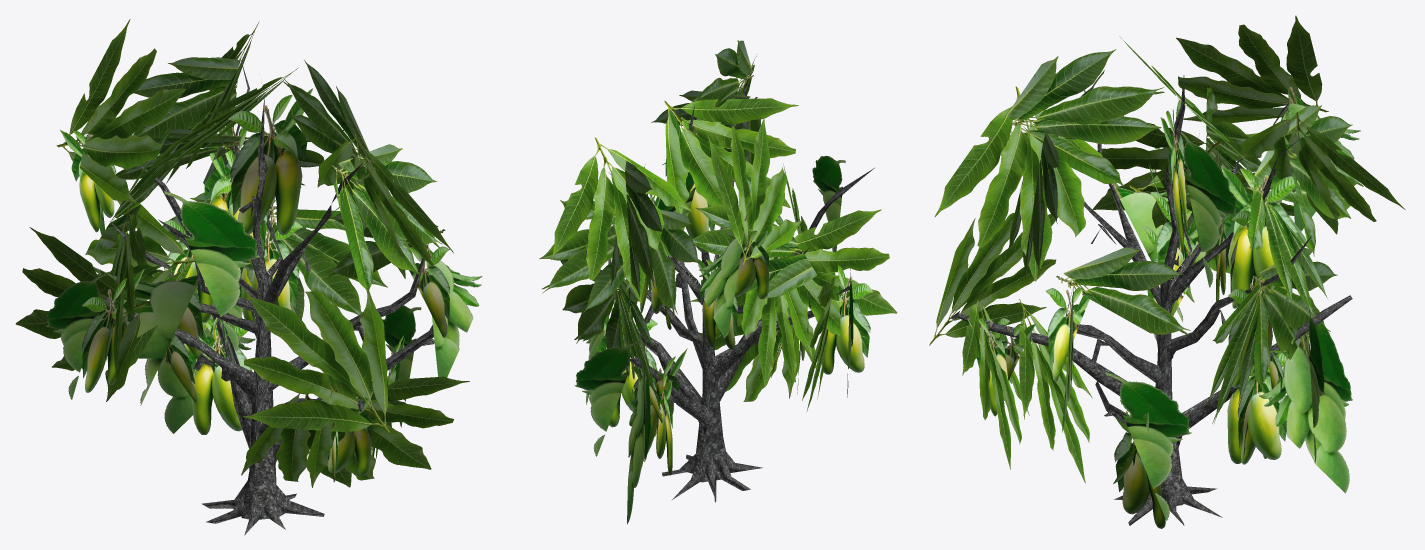
Rendered from realmangotreefar.glb.
3 views of the same model, side by side, from view 1: azimuth 30°, elevation 25°; view 2: azimuth 150°, elevation 25°; view 3: azimuth 270°, elevation 25° (orthographic). The views are drawn at different scales.
Parts seen in each view (by area): view 1: Mang_Tree_01_Mango_Leaf_01_Mat_0, Mang_Tree_01_Mango_Fruit_01_Mat_0, Mang_Tree_01_Mango_Leaf_02_Mat_0, Mang_Tree_01_Mango_Bark_BC02_Mat_0; view 2: Mang_Tree_01_Mango_Leaf_01_Mat_0, Mang_Tree_01_Mango_Fruit_01_Mat_0, Mang_Tree_01_Mango_Leaf_02_Mat_0, Mang_Tree_01_Mango_Bark_BC02_Mat_0; view 3: Mang_Tree_01_Mango_Leaf_01_Mat_0, Mang_Tree_01_Mango_Fruit_01_Mat_0, Mang_Tree_01_Mango_Leaf_02_Mat_0, Mang_Tree_01_Mango_Bark_BC02_Mat_0.
Boxes of the visible parts, bbox=[...] form: Mang_Tree_01_Mango_Leaf_01_Mat_0: bbox=[15, 19, 469, 487]; Mang_Tree_01_Mango_Fruit_01_Mat_0: bbox=[46, 88, 482, 481]; Mang_Tree_01_Mango_Leaf_02_Mat_0: bbox=[94, 57, 445, 319]; Mang_Tree_01_Mango_Bark_BC02_Mat_0: bbox=[86, 60, 434, 535]; Mang_Tree_01_Mango_Leaf_01_Mat_0: bbox=[551, 56, 897, 410]; Mang_Tree_01_Mango_Fruit_01_Mat_0: bbox=[574, 110, 872, 524]; Mang_Tree_01_Mango_Leaf_02_Mat_0: bbox=[539, 40, 817, 396]; Mang_Tree_01_Mango_Bark_BC02_Mat_0: bbox=[585, 84, 874, 502]; Mang_Tree_01_Mango_Leaf_01_Mat_0: bbox=[929, 15, 1405, 483]; Mang_Tree_01_Mango_Fruit_01_Mat_0: bbox=[967, 70, 1360, 528]; Mang_Tree_01_Mango_Leaf_02_Mat_0: bbox=[1007, 49, 1363, 423]; Mang_Tree_01_Mango_Bark_BC02_Mat_0: bbox=[951, 75, 1352, 525].
Size of the model in its own units: 5.6 by 7 by 6.1.
4 materials, 4 textured.
